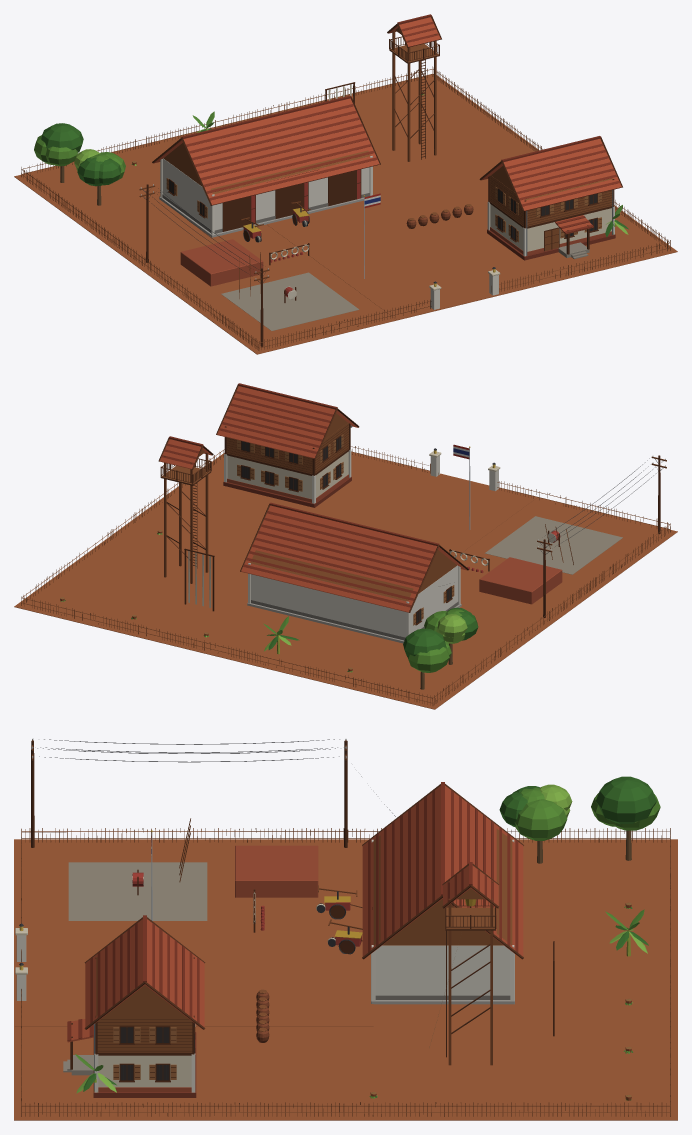
Rendered from fire.glb.
3 renders of one model, top to bottom at view 1: azimuth 30°, elevation 25°; view 2: azimuth 150°, elevation 25°; view 3: azimuth 270°, elevation 25°, orthographic. The views are drawn at different scales.
Visible parts, largest first — view 1: body, windows; view 2: body, windows; view 3: body, windows.
Boxes of the visible parts, <box> form: body: <box>14,14,677,354</box>; windows: <box>169,180,597,286</box>; body: <box>14,383,677,709</box>; windows: <box>241,436,495,623</box>; body: <box>14,738,677,1120</box>; windows: <box>19,926,169,1080</box>.
Bounding box in the file's own units: 47.9 × 14.91 × 47.9.
